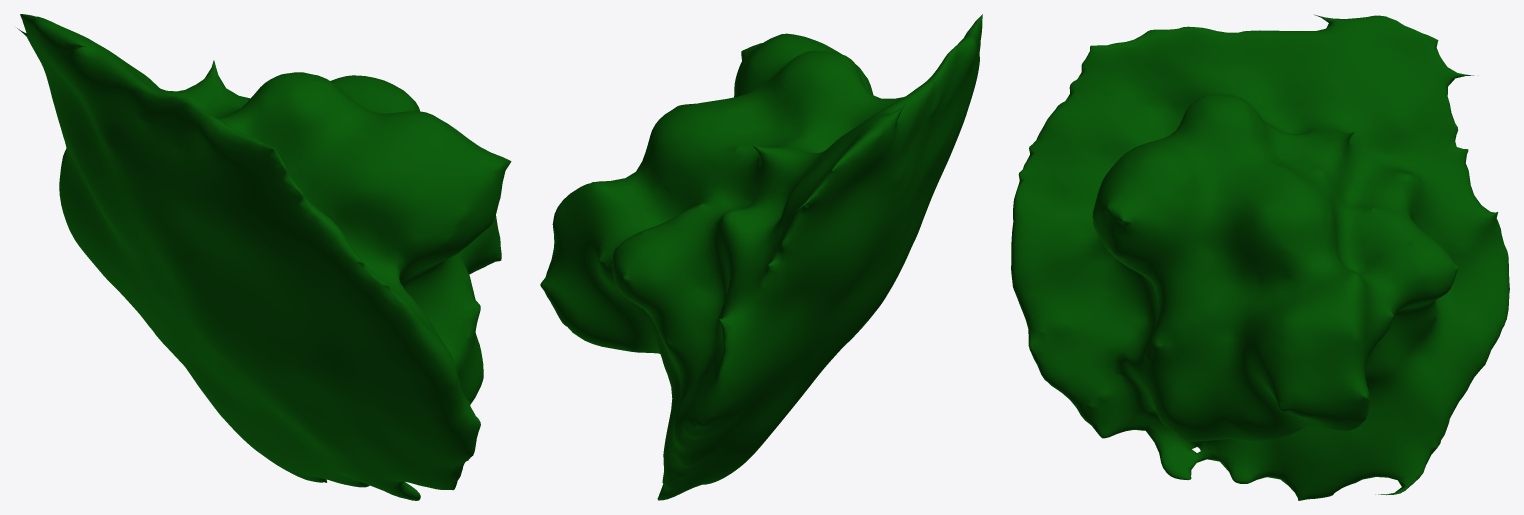
File: Lesion.obj
The picture shows the model from 3 angles, left to right: view 1: azimuth 30°, elevation 25°; view 2: azimuth 150°, elevation 25°; view 3: azimuth 270°, elevation 25°; orthographic projection. The views are drawn at different scales.
Visible parts, largest first — view 1: grp1; view 2: grp1; view 3: grp1.
Part boxes in pixels (<box>): grp1: <box>17,14,511,500</box>; grp1: <box>540,14,982,500</box>; grp1: <box>1011,14,1509,500</box>.
Bounding box in the file's own units: 38.41 × 44.04 × 50.31.
